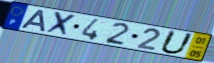2: (135, 28, 164, 52), (104, 22, 131, 47)
4: (79, 18, 101, 42)
A: (19, 9, 47, 33)
U: (158, 29, 196, 55)
X: (44, 10, 79, 38)
